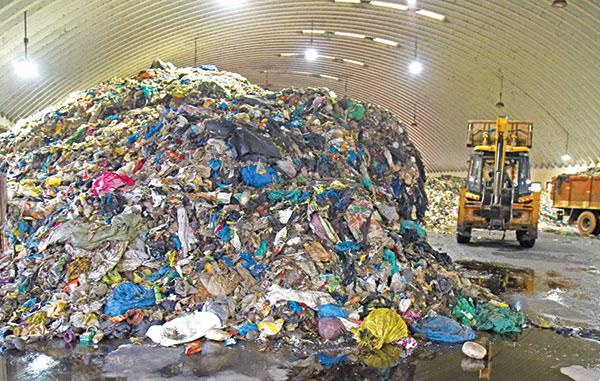garbage: (0, 62, 441, 372)
